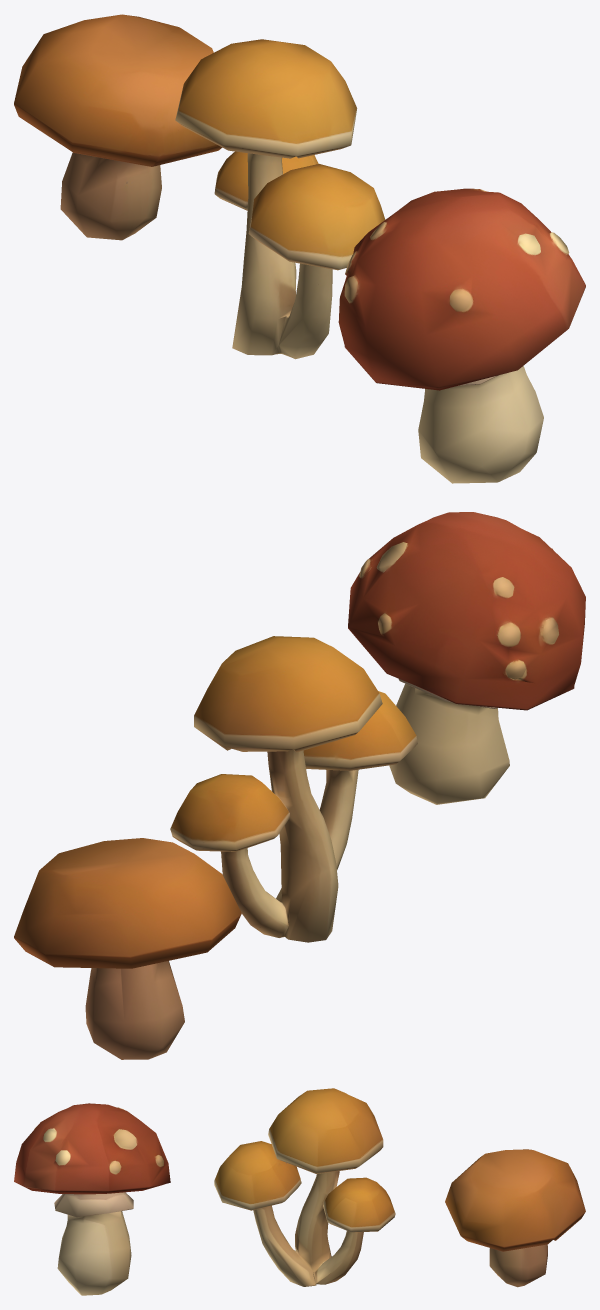
3 renders of one model, top to bottom at view 1: azimuth 30°, elevation 25°; view 2: azimuth 150°, elevation 25°; view 3: azimuth 270°, elevation 25°, orthographic. The views are drawn at different scales.
Parts seen in each view (by area): view 1: tripo_node_d6eae50c-1fb2-434c-98c1-ad93d44782b2; view 2: tripo_node_d6eae50c-1fb2-434c-98c1-ad93d44782b2; view 3: tripo_node_d6eae50c-1fb2-434c-98c1-ad93d44782b2.
Part boxes in pixels (x1,y1,x2,y2): tripo_node_d6eae50c-1fb2-434c-98c1-ad93d44782b2: (14, 14, 585, 483); tripo_node_d6eae50c-1fb2-434c-98c1-ad93d44782b2: (14, 512, 585, 1059); tripo_node_d6eae50c-1fb2-434c-98c1-ad93d44782b2: (14, 1088, 585, 1295).
Bounding box in the file's own units: 0.2642 × 0.3542 × 1.
Materials: 1 (1 with a texture image).
